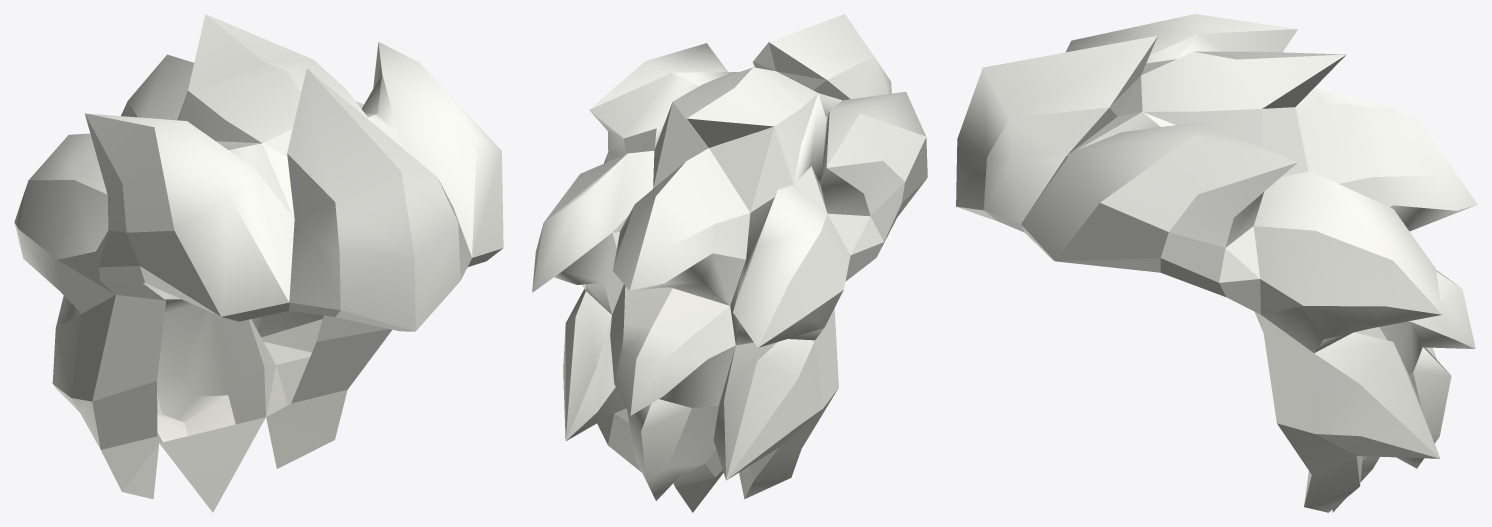
File: Hair_White_19.fbx
3 views of the same model, side by side, from view 1: azimuth 30°, elevation 25°; view 2: azimuth 150°, elevation 25°; view 3: azimuth 270°, elevation 25° (orthographic). The views are drawn at different scales.
Visible parts, largest first — view 1: Hair_White_19; view 2: Hair_White_19; view 3: Hair_White_19.
Part boxes in pixels (left/top/right/bottom): Hair_White_19: left=14, top=14, right=503, bottom=512; Hair_White_19: left=532, top=14, right=927, bottom=512; Hair_White_19: left=956, top=14, right=1477, bottom=512.
Size of the model in its own units: 47.08 by 65.84 by 65.25.
